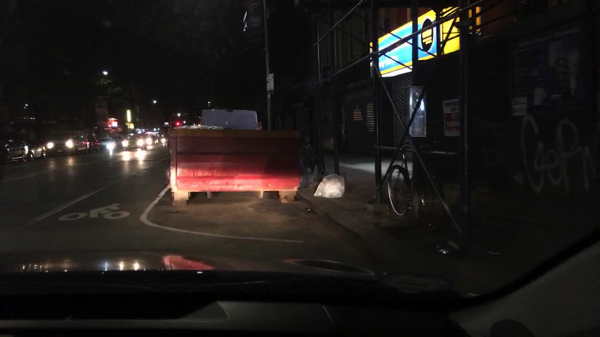bike: (385, 141, 447, 232), (301, 135, 325, 176)
car: (45, 131, 89, 156), (0, 132, 29, 163), (24, 139, 47, 160), (85, 135, 102, 153), (98, 138, 115, 151), (113, 135, 125, 148), (144, 134, 156, 145), (161, 135, 170, 148), (123, 135, 130, 151)
traffic light: (175, 121, 181, 126)
traffic sign: (243, 3, 267, 37), (266, 73, 274, 92)
truck: (166, 109, 302, 207)
